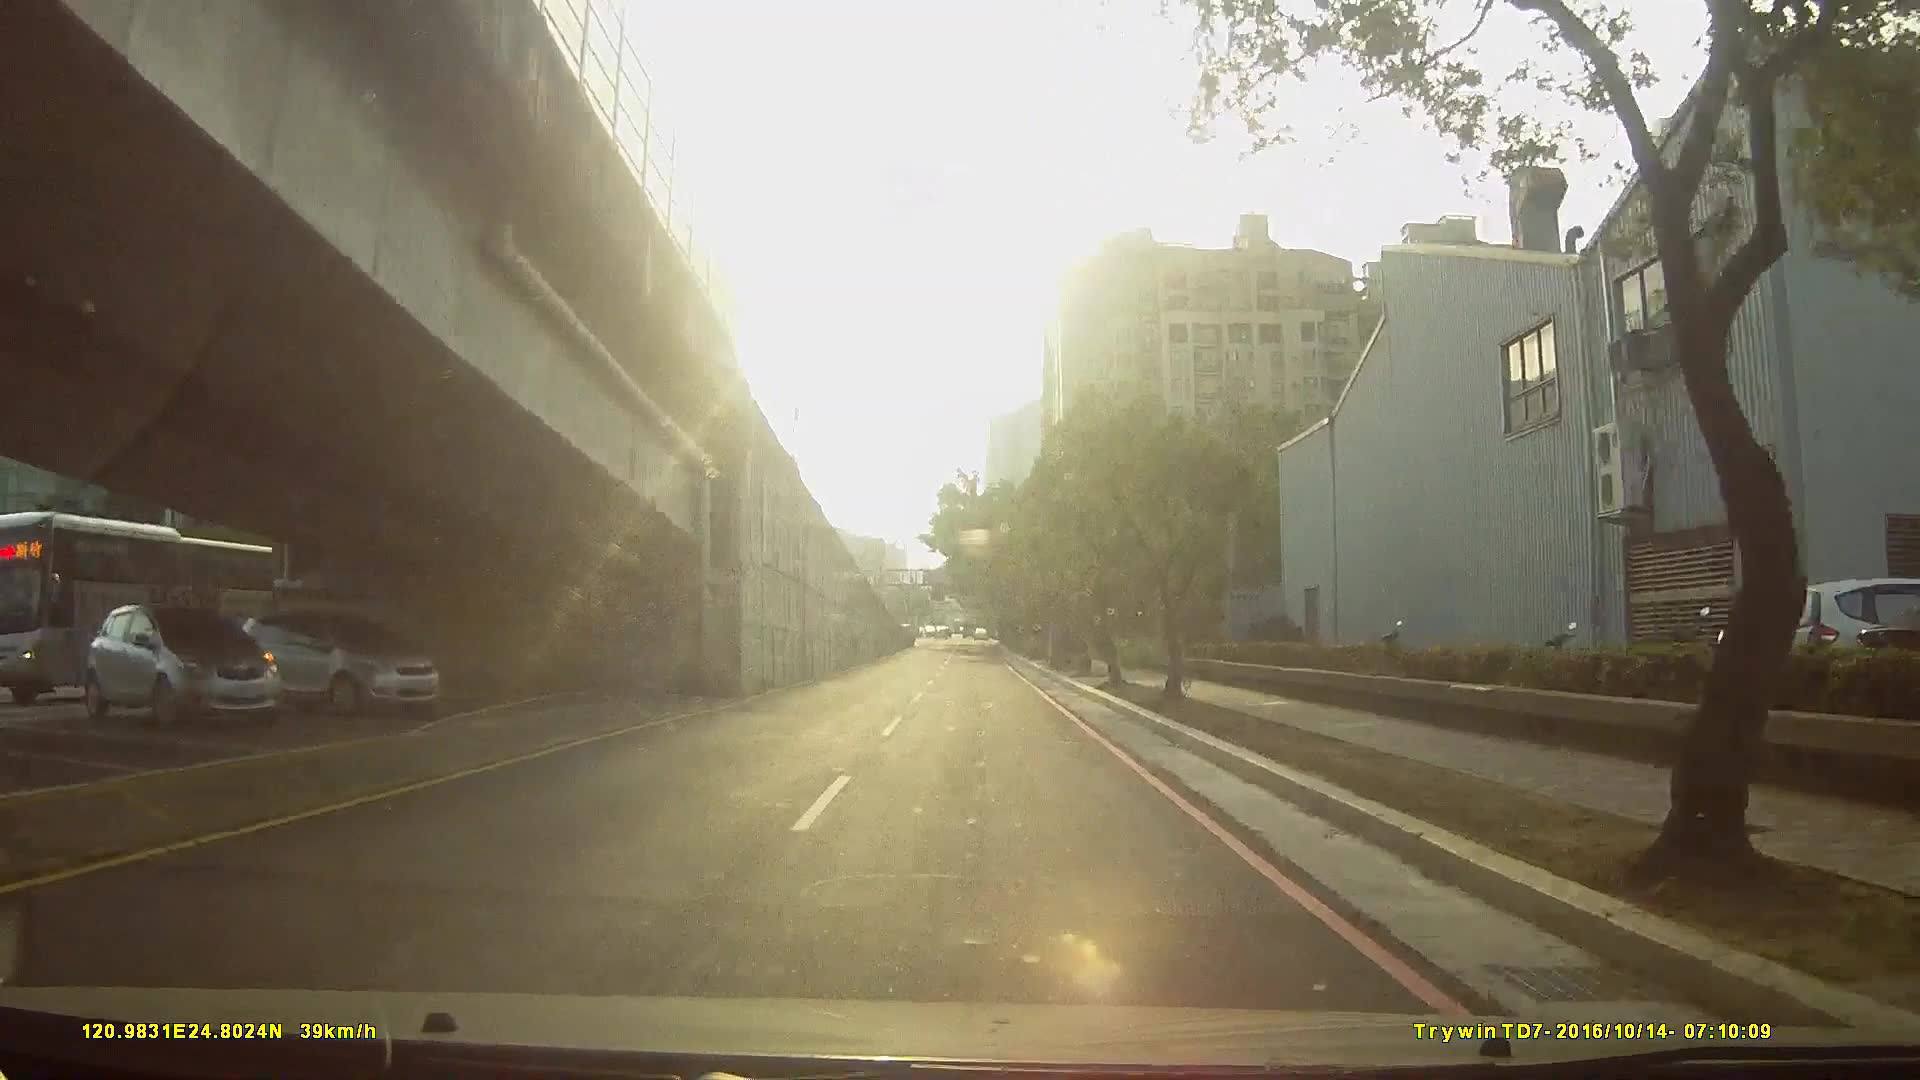vehicle: (1, 505, 291, 708), (210, 608, 455, 719), (70, 599, 266, 729)
